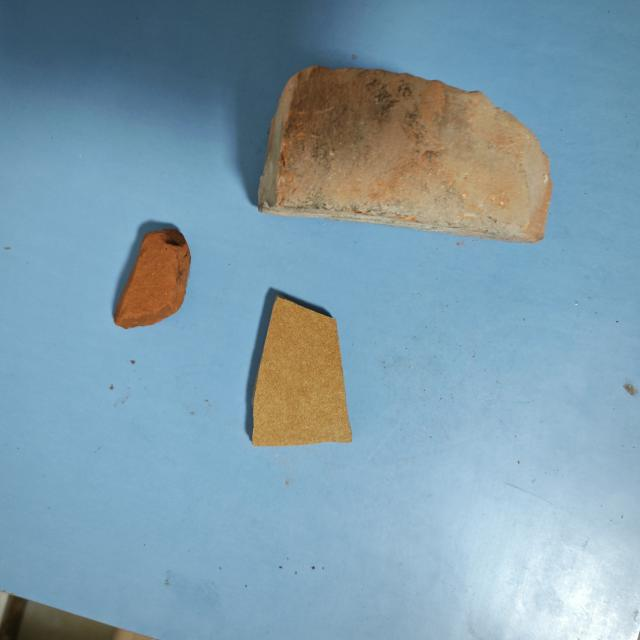-Other waste - brick-: (256, 64, 554, 241), (114, 225, 187, 332)
-Other waste - ceramic-: (246, 298, 351, 447)
